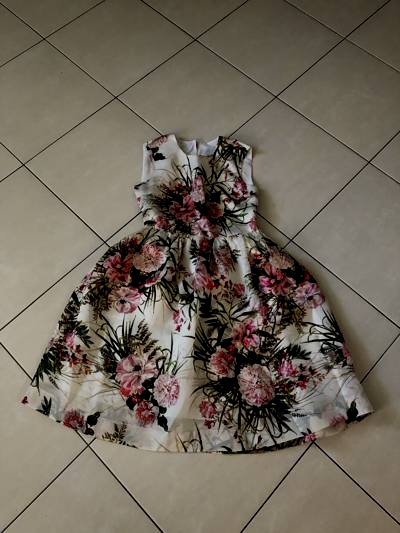Dress: (14, 113, 363, 462)
